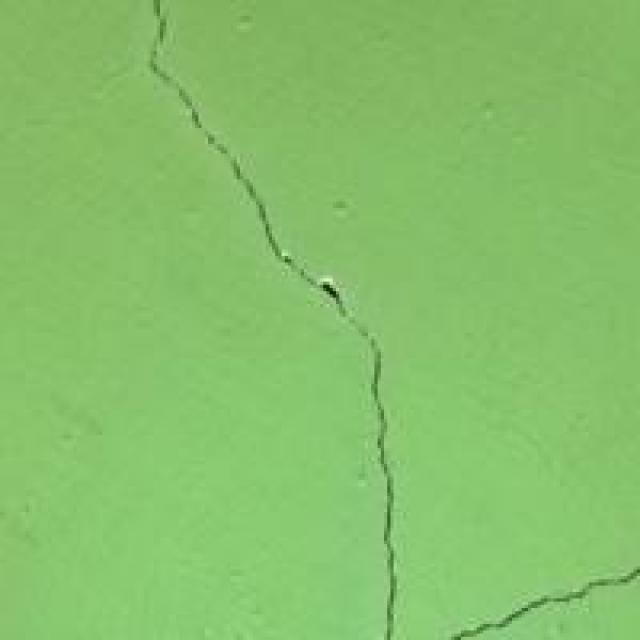crack: (134, 0, 429, 637)
